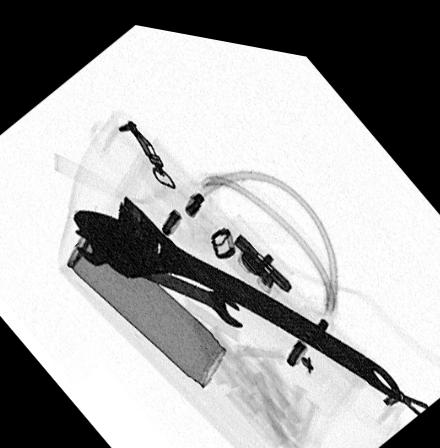Wrench: (70, 186, 401, 382), (73, 219, 242, 317)
